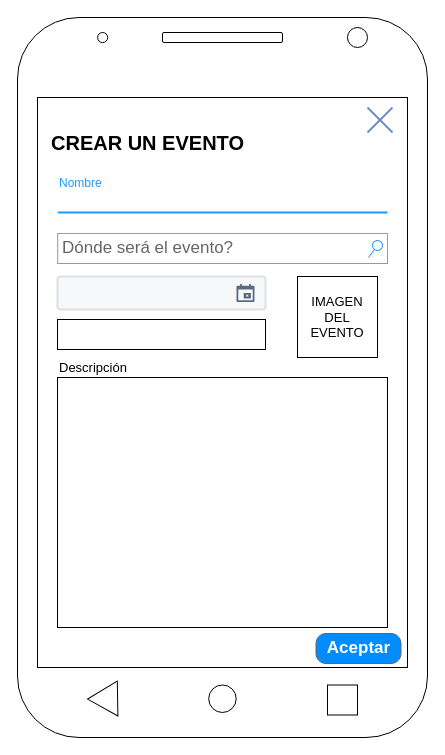
The diagram is 445 pixels wide and 755 high, and some of its shapes have lost their labels. The box of each missing label's shape, as (x1, y1, x2, y2) in pixels:
Cuanta gente acudirá?: (56, 318, 266, 350)
Cuándo será?: (56, 275, 266, 310)
